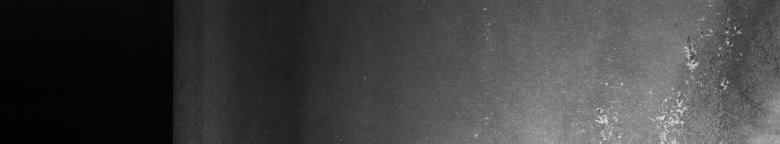hc: (595, 4, 742, 128)
